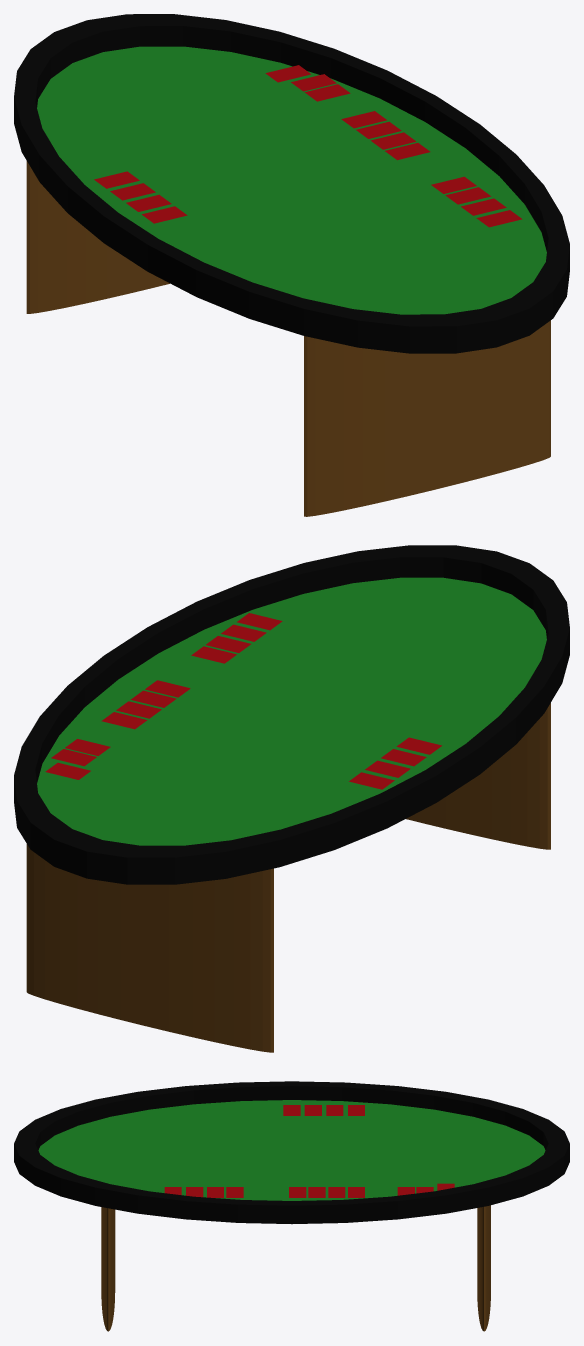
File: Poker.fbx
3 views of the same model, one above another, from view 1: azimuth 30°, elevation 25°; view 2: azimuth 150°, elevation 25°; view 3: azimuth 270°, elevation 25° (orthographic). The views are drawn at different scales.
Parts seen in each view (by area): view 1: Plane.003; view 2: Plane.003; view 3: Plane.003.
Boxes of the visible parts, box(x1,y1,x2,y2) form: Plane.003: box(14, 14, 569, 516); Plane.003: box(14, 545, 569, 1052); Plane.003: box(14, 1081, 569, 1331).
Size of the model in its own units: 880 by 485 by 1661.
